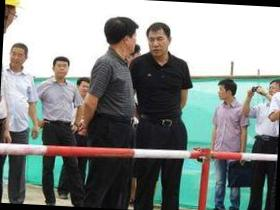no_helmet: (101, 13, 140, 60), (142, 17, 176, 61), (5, 38, 32, 70), (49, 54, 74, 80), (215, 77, 238, 103), (76, 74, 92, 96), (265, 77, 280, 100)
